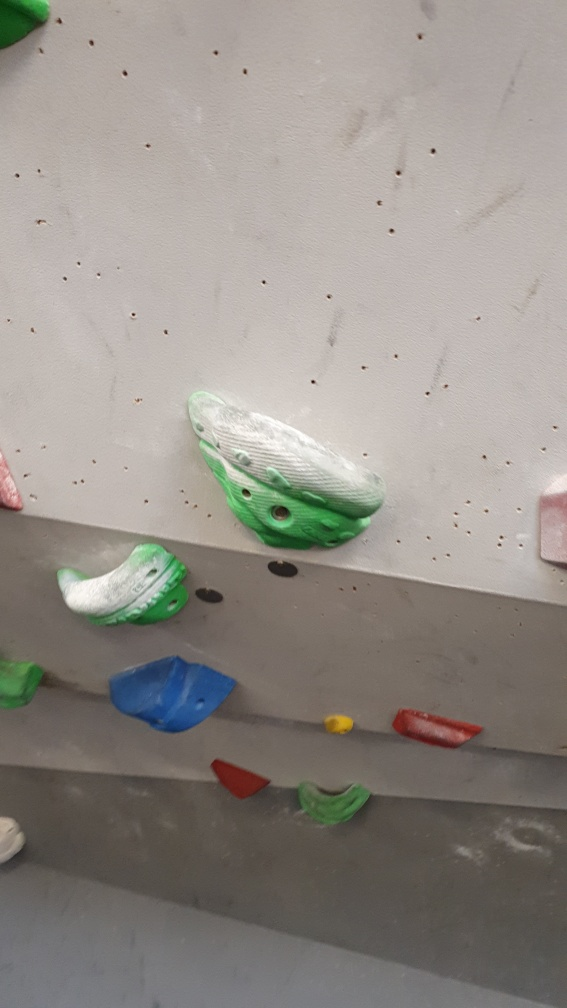Crimp: (388, 701, 487, 753)
Hand Start: (191, 580, 224, 613), (266, 554, 296, 586)
Jug: (185, 386, 388, 554), (51, 540, 193, 629), (295, 774, 384, 829)
Pinch: (101, 651, 243, 735)
